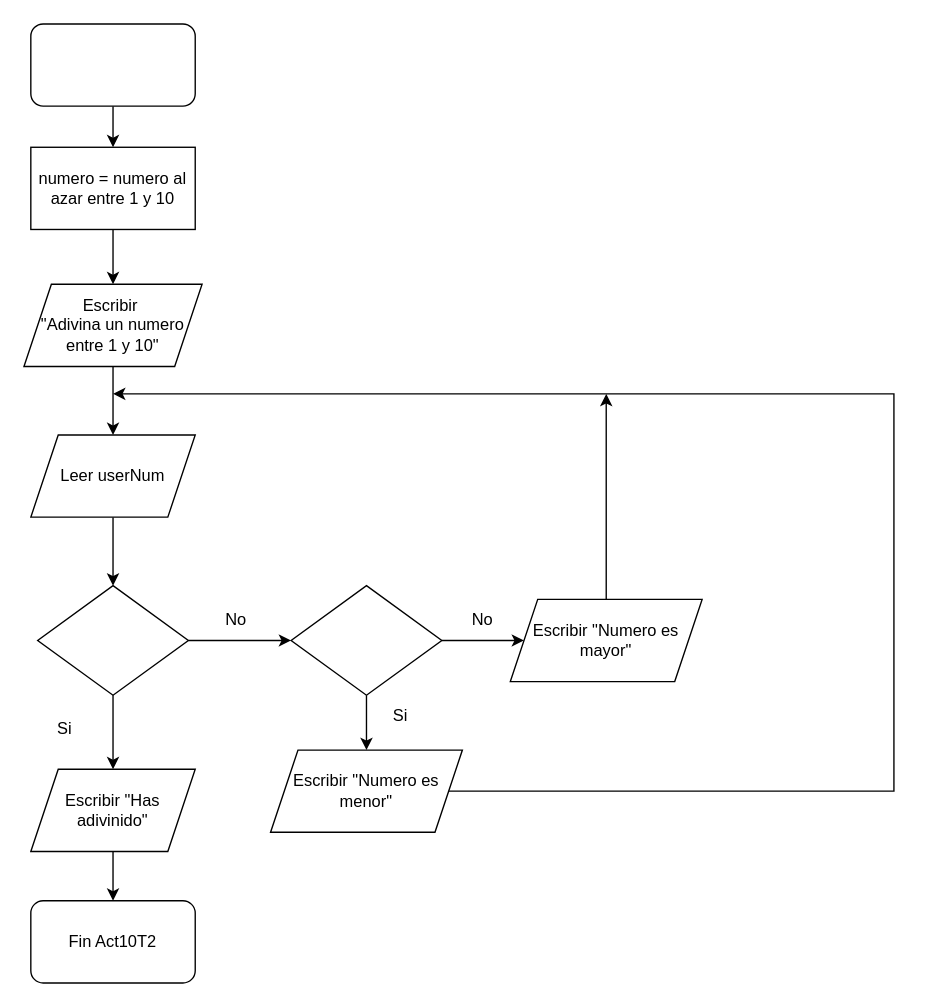
Image size: 929x1007. Some labels were removed from this diagram. The centre of each missing label's shape, as x and y in pixels:
"Inicio Act10T2" belongs at (112,64).
"numero < userNum?" belongs at (366,639).
"numero = userNum?" belongs at (112,639).
